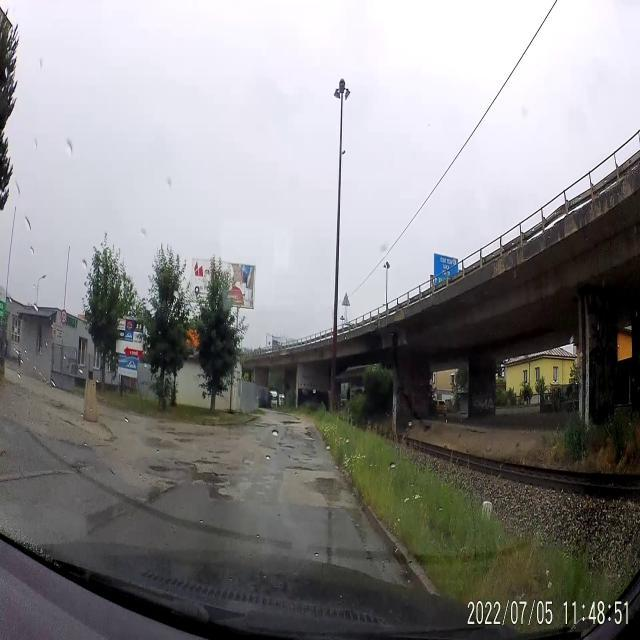Pothole: (296, 469, 344, 518)
